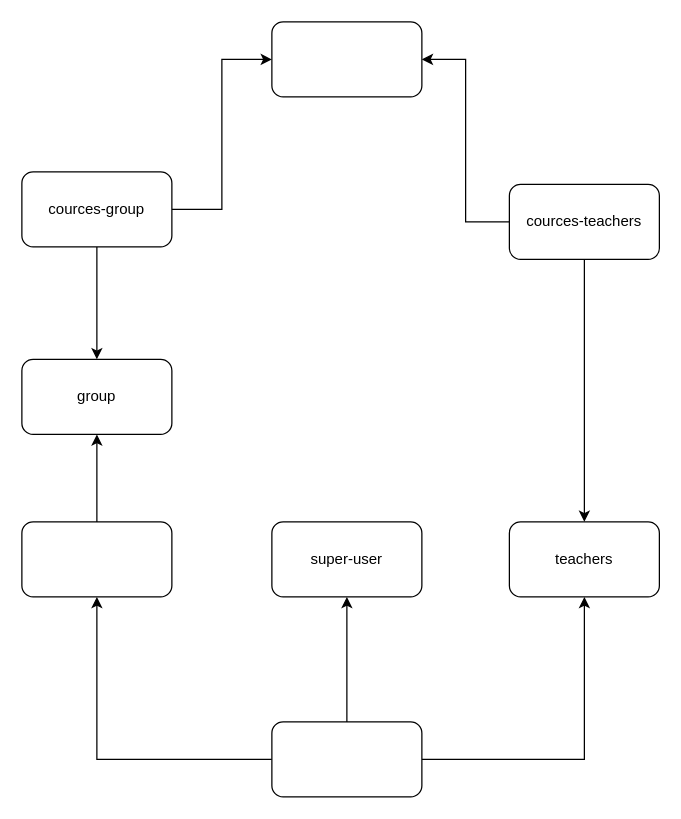
The diagram is 681 pixels wide and 819 high, and some of its shapes have lost their labels. The box of each missing label's shape, as (x1, y1, x2, y2) in pixels:
cources: (271, 21, 422, 97)
student: (21, 521, 172, 597)
user: (271, 721, 422, 797)
